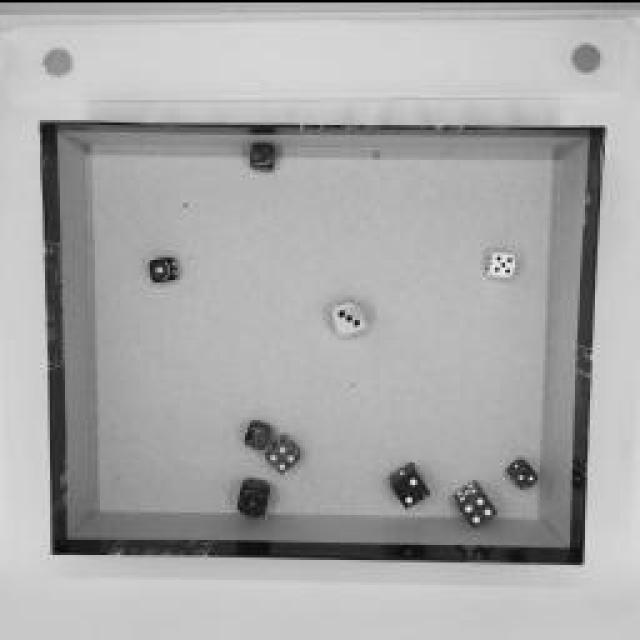dice_1: (232, 475, 272, 517), (148, 251, 182, 284)
dice_2: (391, 464, 431, 506), (506, 454, 539, 488), (249, 140, 279, 168)
dice_3: (331, 301, 369, 334)
dice_4: (455, 482, 500, 526), (264, 444, 301, 468), (246, 420, 269, 448)
dice_5: (486, 249, 519, 276)
